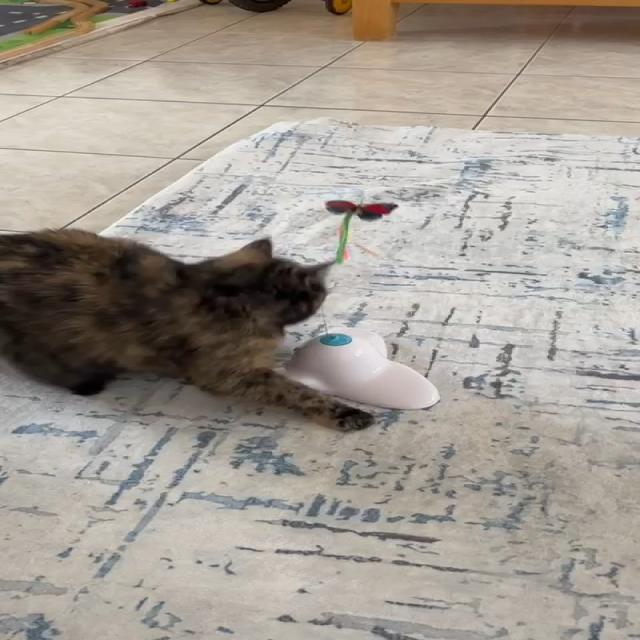authorized: (0, 227, 375, 432)
